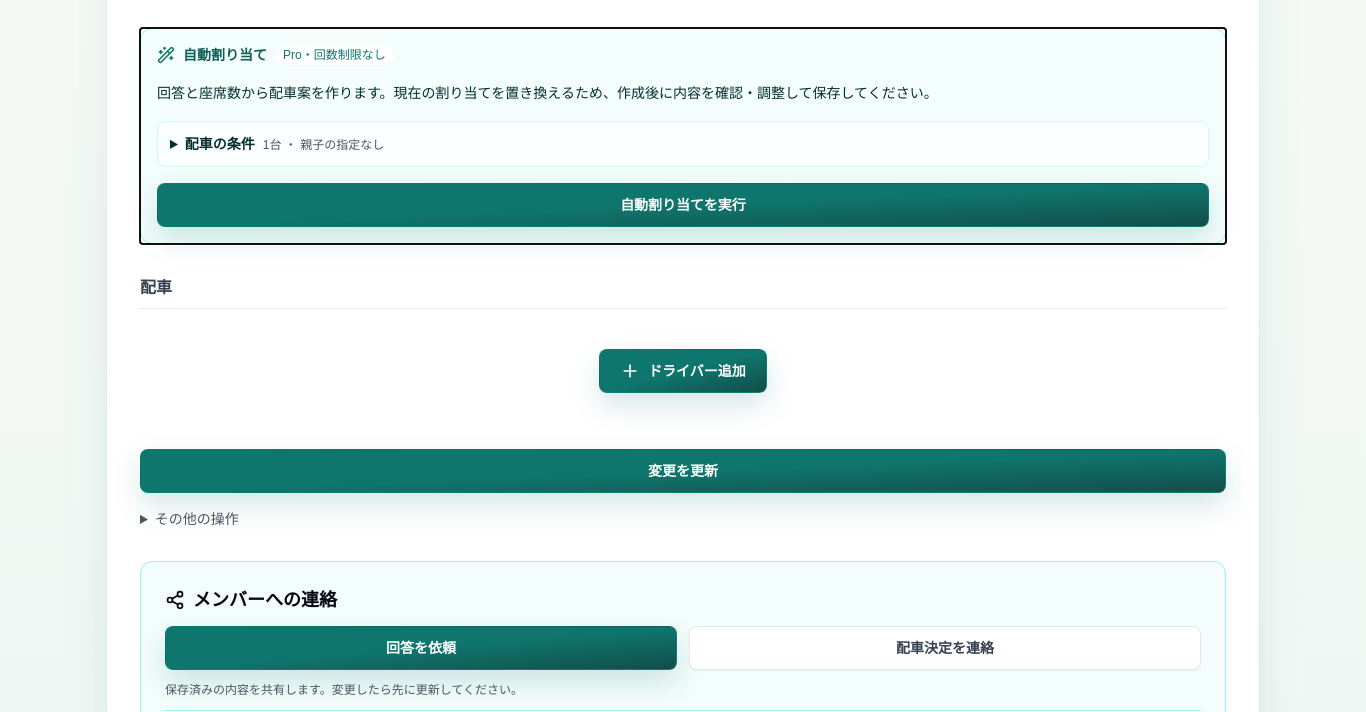
Test case: 手動で選んだドライバーと子どもを保存し、保存結果の連絡へ進める
(page scrolled)
Expected: the button "自動割り当てを実行" is enabled, [157, 183, 1209, 227]
Click the button "ドライバー追加".
click(683, 371)  # box [599, 349, 767, 393]
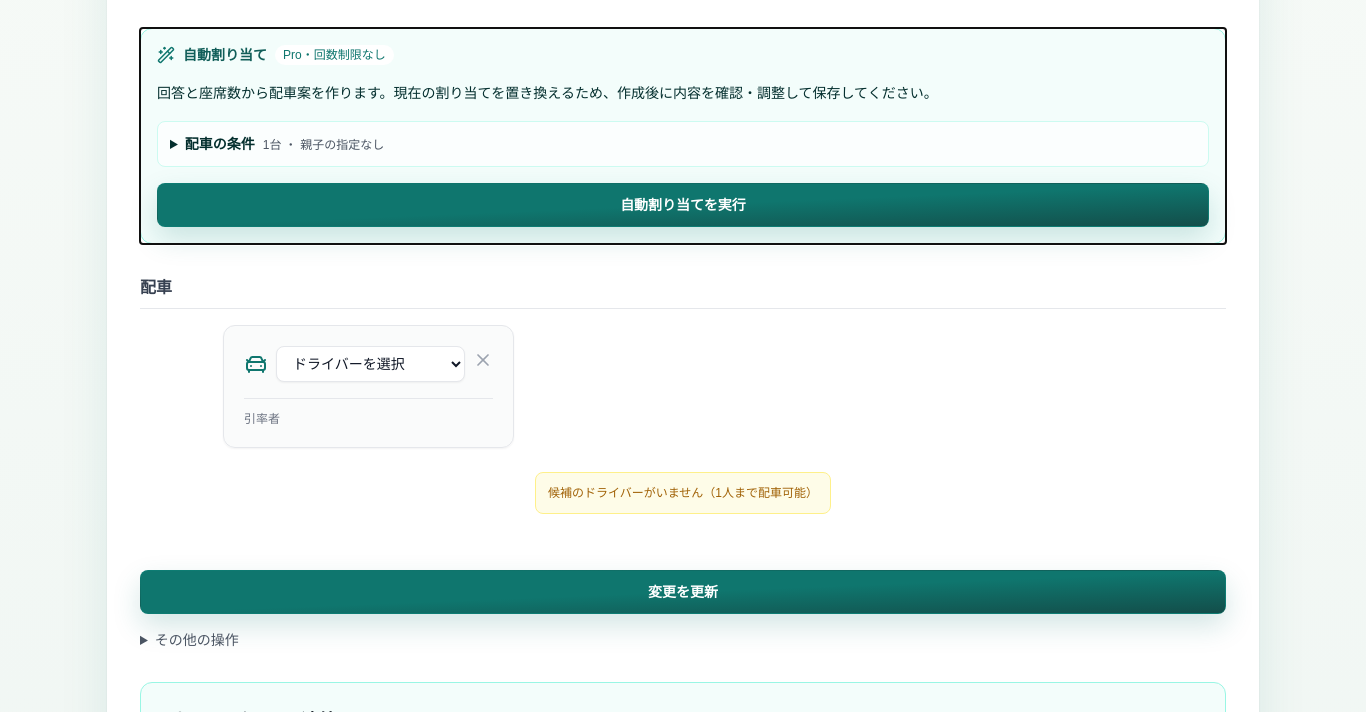
Select "7" in the dropdown named "drivers.0.availabilityDriverId" at (370, 364), box [276, 346, 465, 382]
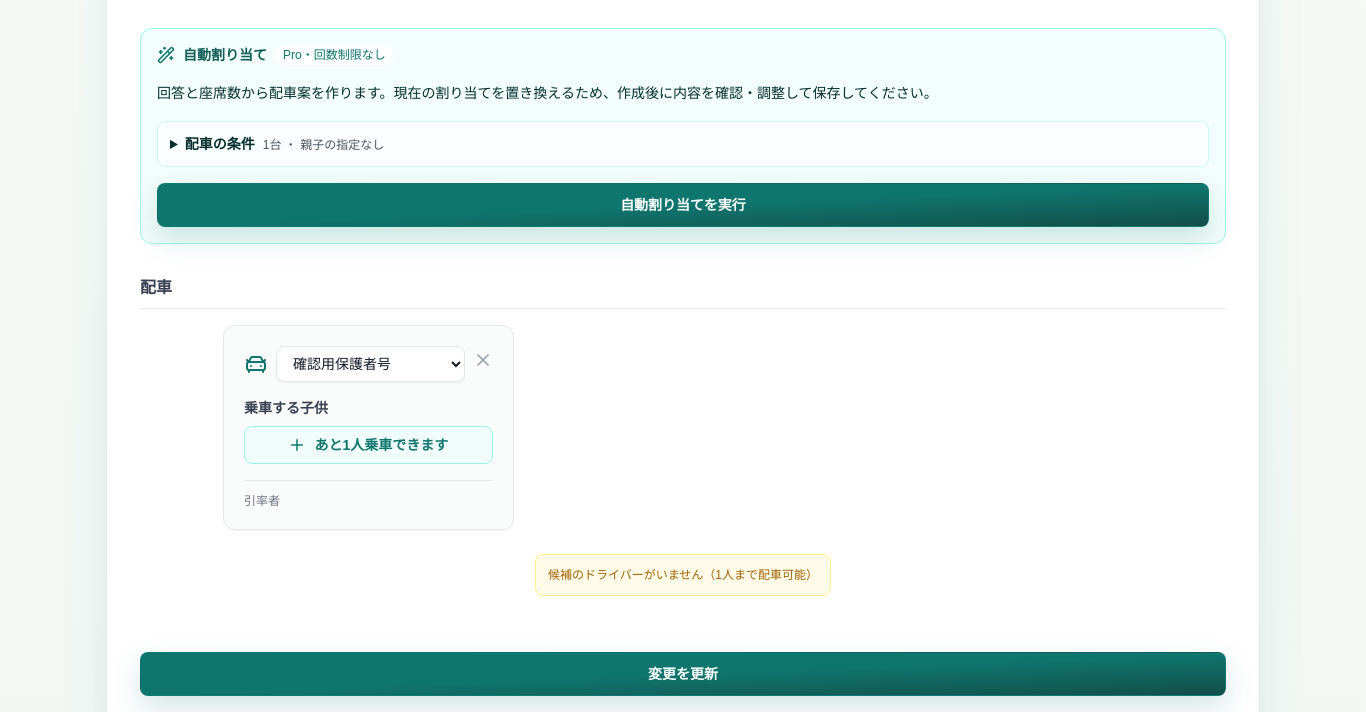
Click the button "あと1人乗車できます".
click(368, 445)  # box [244, 426, 493, 464]
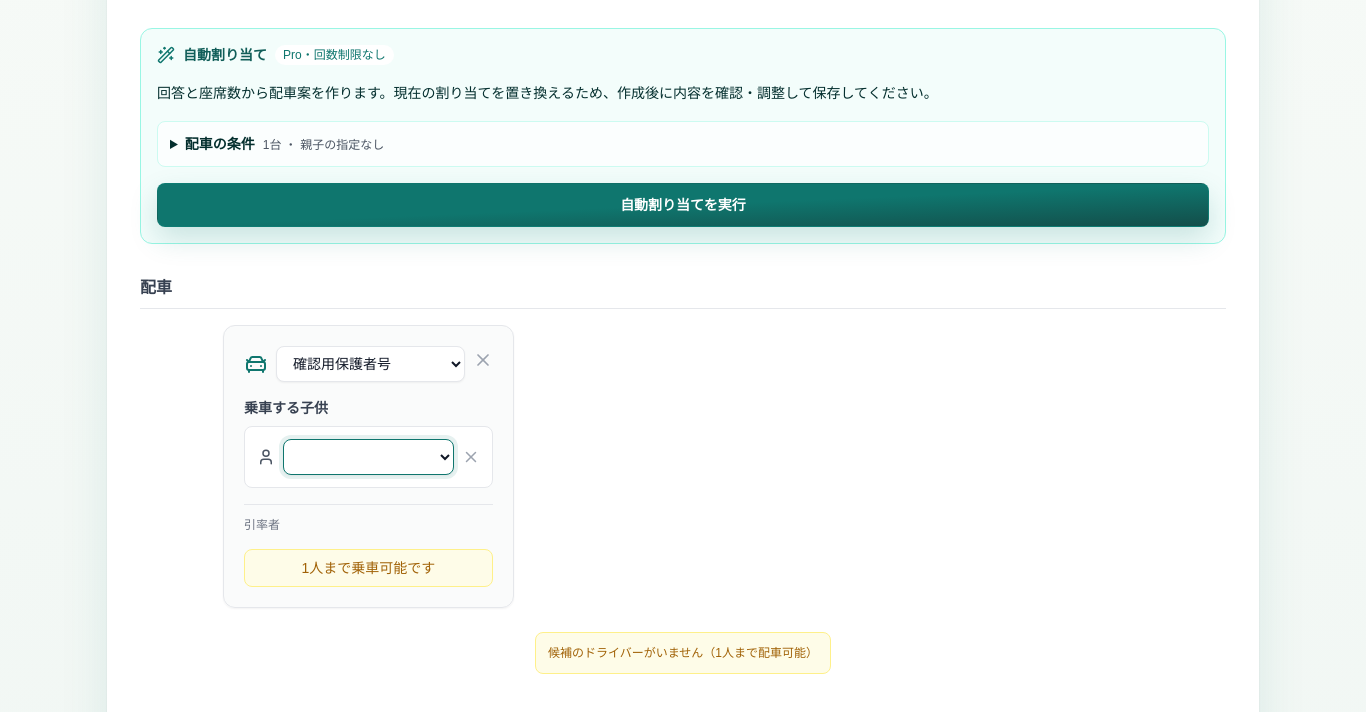
Expected: the dropdown named "drivers.0.rideAssignments.0.childId" below "乗車する子供" is shown
Select "確認用子ども (3年)" in the dropdown named "drivers.0.rideAssignments.0.childId" below "乗車する子供" at (368, 457), box [283, 439, 454, 475]
(page scrolled)
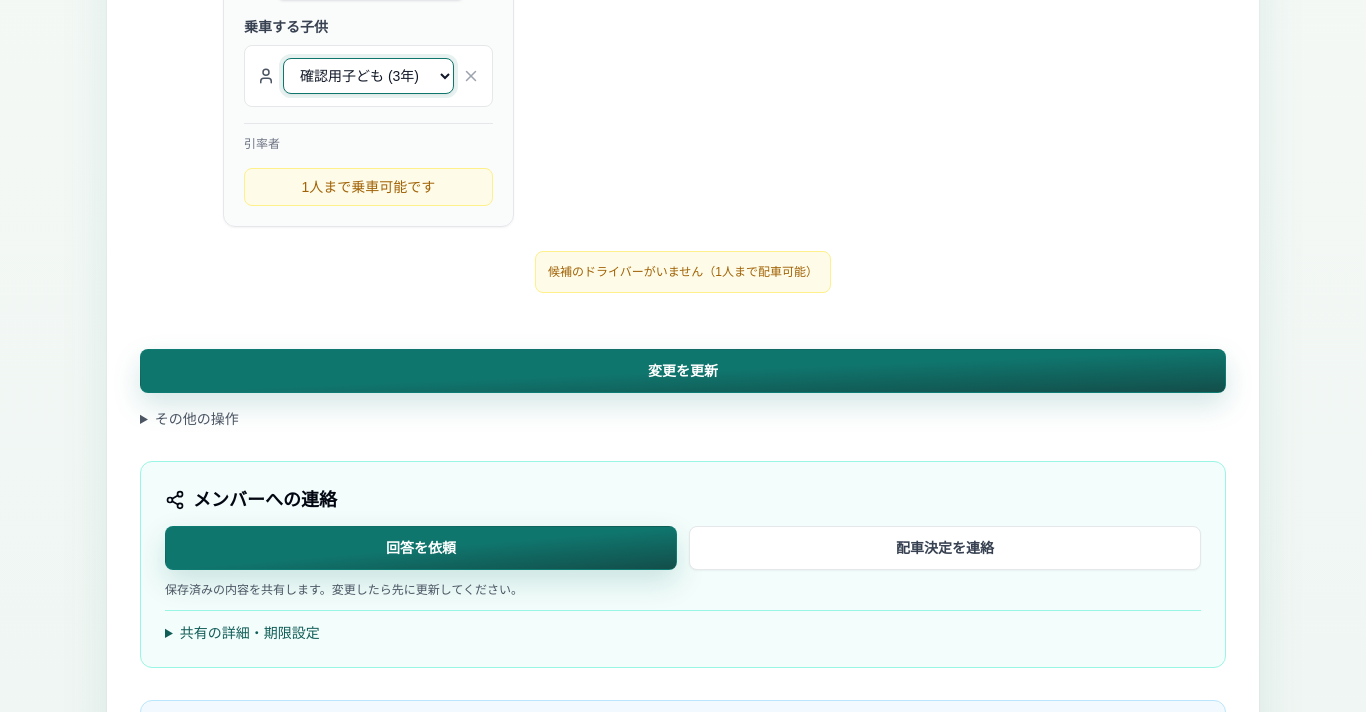
Click the button "変更を更新".
click(683, 371)  # box [140, 349, 1226, 393]
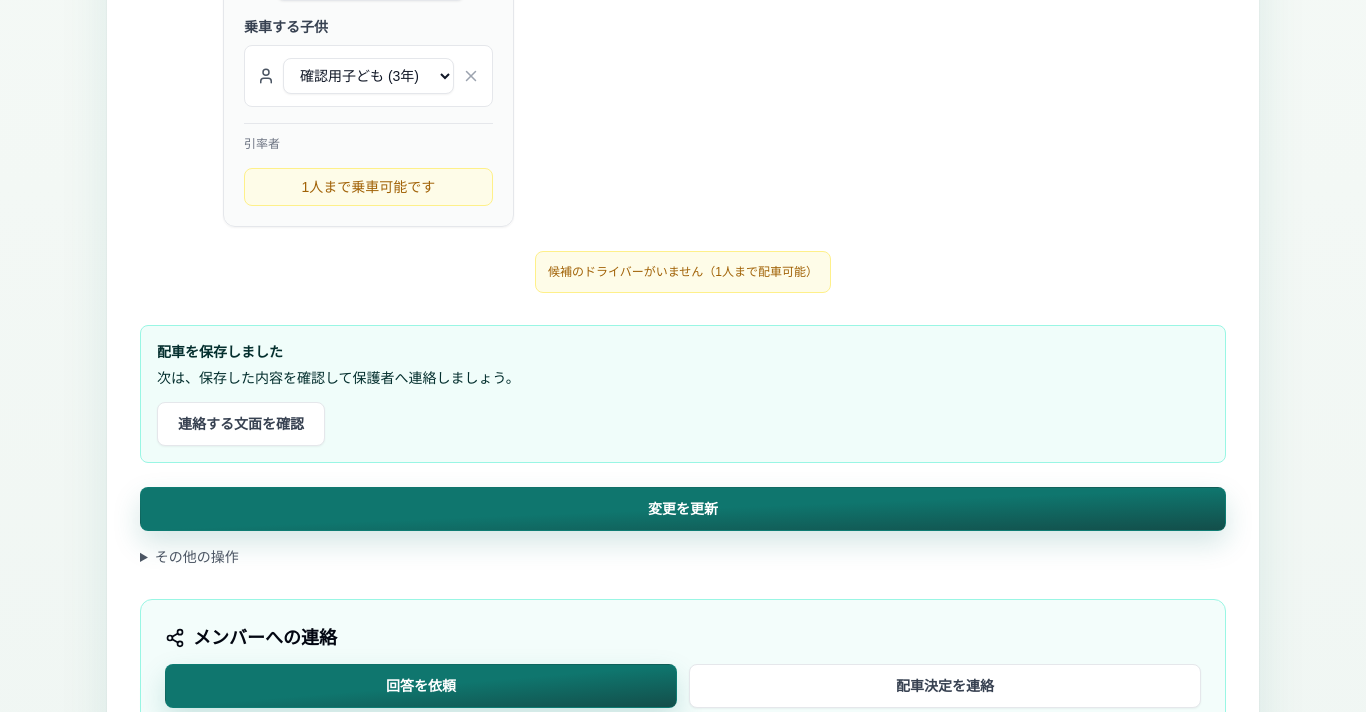
Expected: the button "連絡する文面を確認" is shown
Click the button "連絡する文面を確認".
click(241, 424)  # box [157, 402, 325, 446]
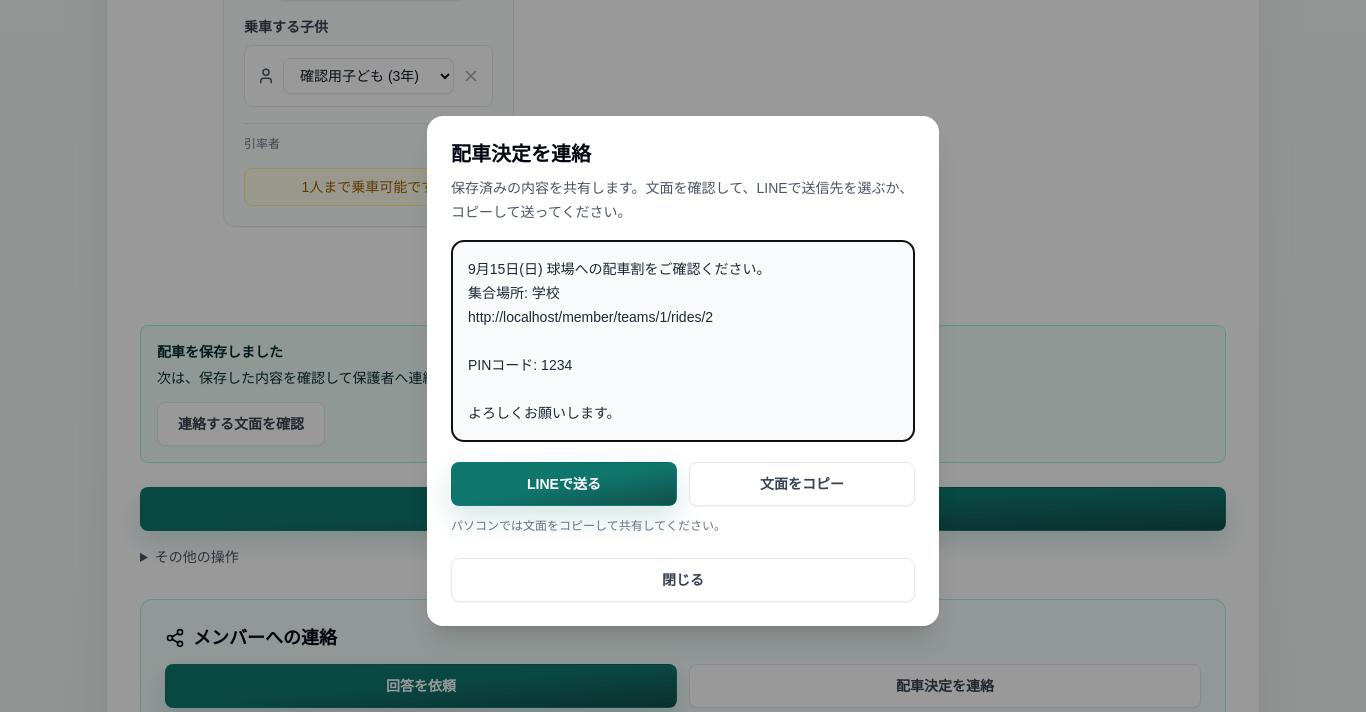
Expected: the text named "共有する文面" shows "球場", [451, 240, 915, 442]
Expected: the text named "共有する文面" shows "/member/teams/1/rides/2", [468, 261, 771, 421]
